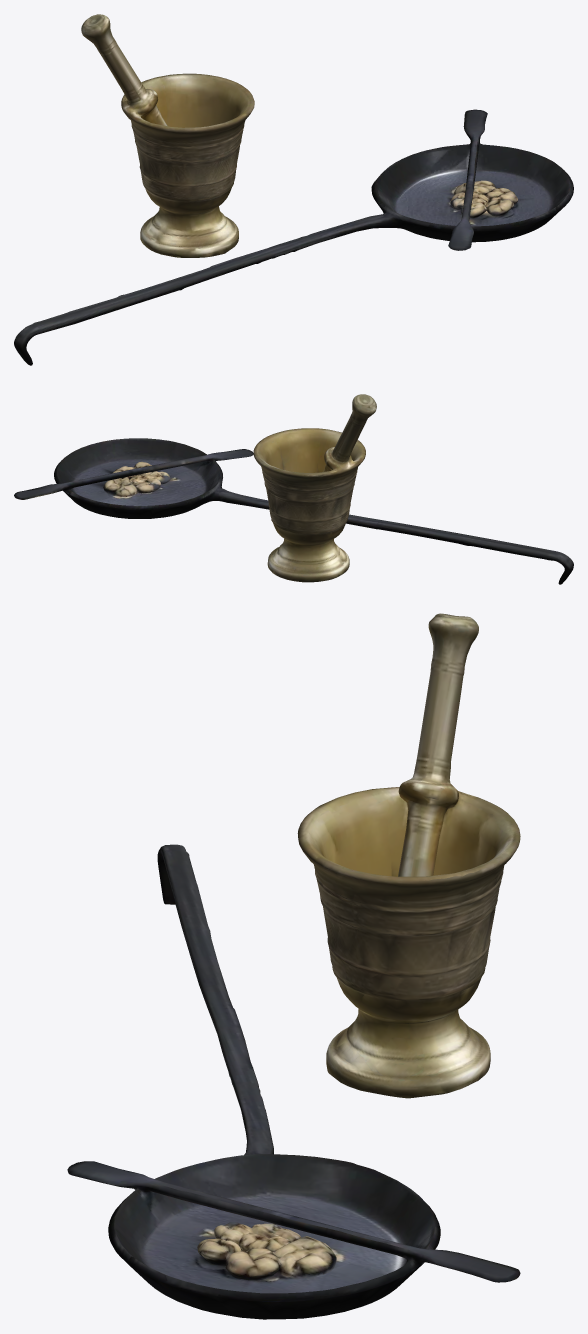
File: p-najr.glb
3 views of the same model, one above another, from view 1: azimuth 30°, elevation 25°; view 2: azimuth 150°, elevation 25°; view 3: azimuth 270°, elevation 25° (orthographic). The views are drawn at different scales.
Parts seen in each view (by area): view 1: node_0; view 2: node_0; view 3: node_0.
Part boxes in pixels (<box>): node_0: <box>14,14,573,365</box>; node_0: <box>14,394,573,584</box>; node_0: <box>67,613,520,1319</box>.
Size of the model in its own units: 1.05 by 0.4327 by 0.4276.
1 material, 1 textured.
